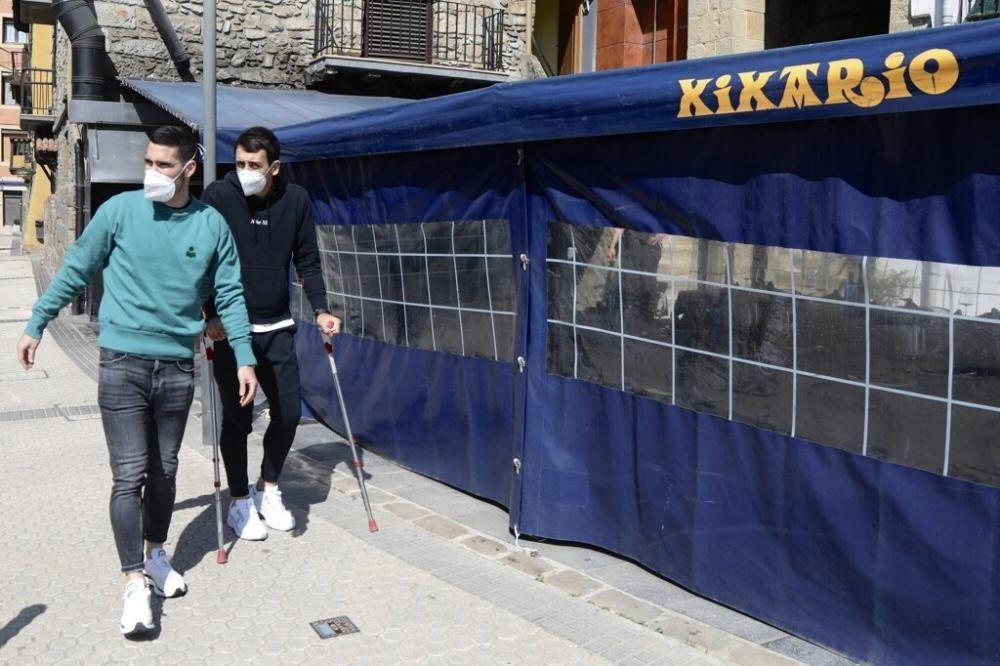crutches: (205, 125, 379, 565)
